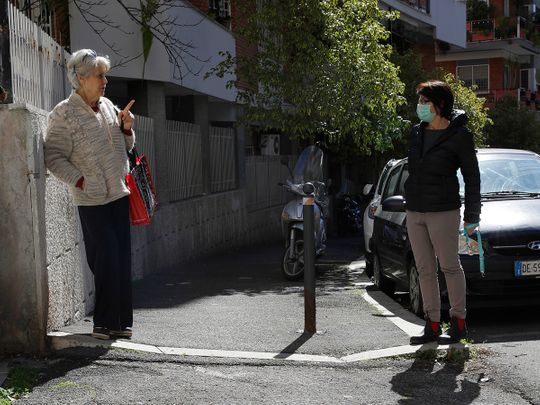Good: (42, 48, 482, 345)
